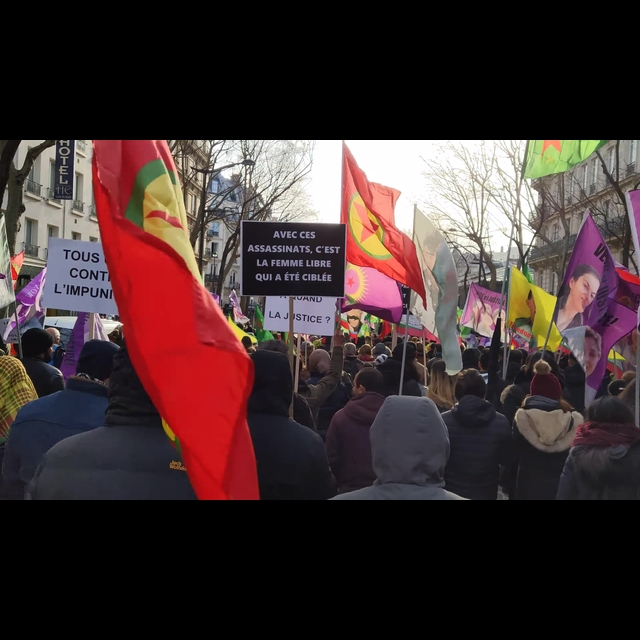PKK: (340, 143, 432, 309)
